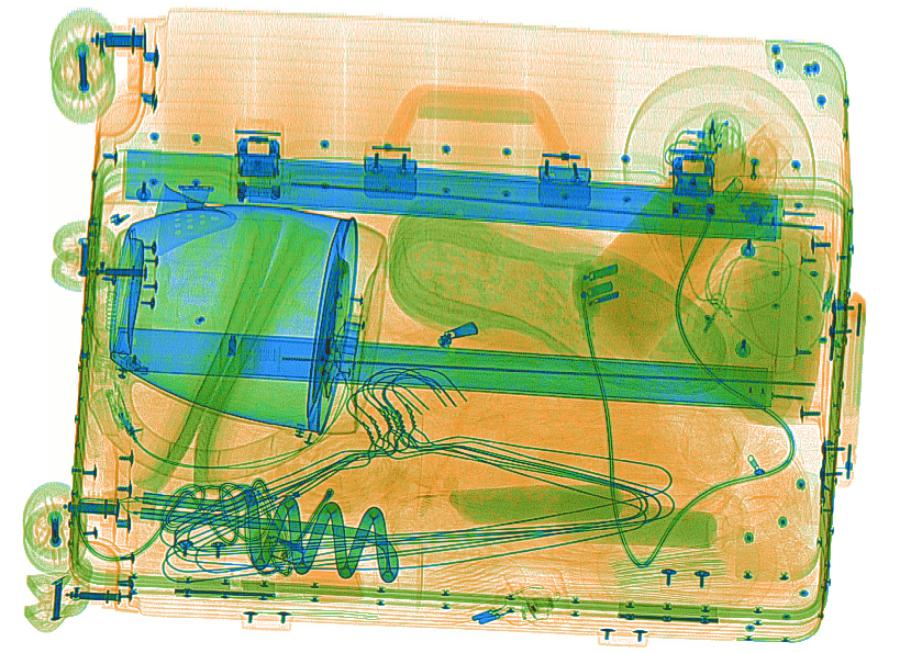plasticBottleWithaNozzle: (573, 113, 791, 371)
